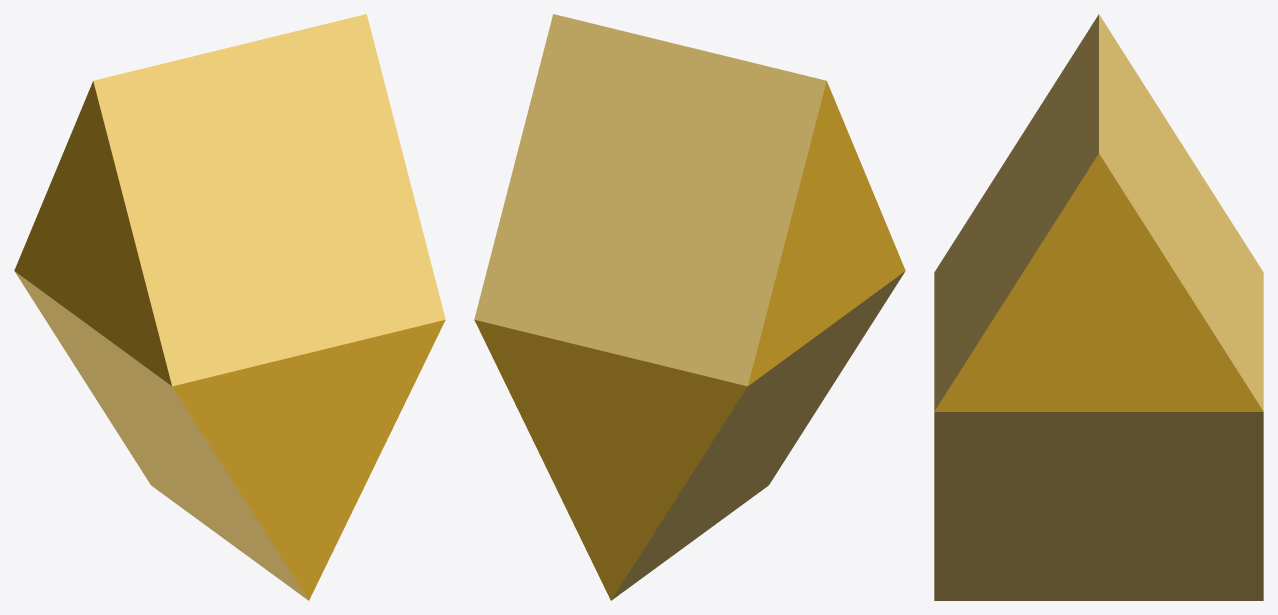
The model's file is J26.Gyrobiprisma.gltf.
3 renders of one model, left to right at view 1: azimuth 30°, elevation 25°; view 2: azimuth 150°, elevation 25°; view 3: azimuth 270°, elevation 25°, orthographic. The views are drawn at different scales.
Parts seen in each view (by area): view 1: J26.Gyrobiprisma; view 2: J26.Gyrobiprisma; view 3: J26.Gyrobiprisma.
Boxes of the visible parts, x1=… form: J26.Gyrobiprisma: x1=14, y1=14, x2=445, y2=600; J26.Gyrobiprisma: x1=474, y1=14, x2=905, y2=600; J26.Gyrobiprisma: x1=934, y1=14, x2=1263, y2=600.
Size of the model in its own units: 10 by 17.32 by 10.
